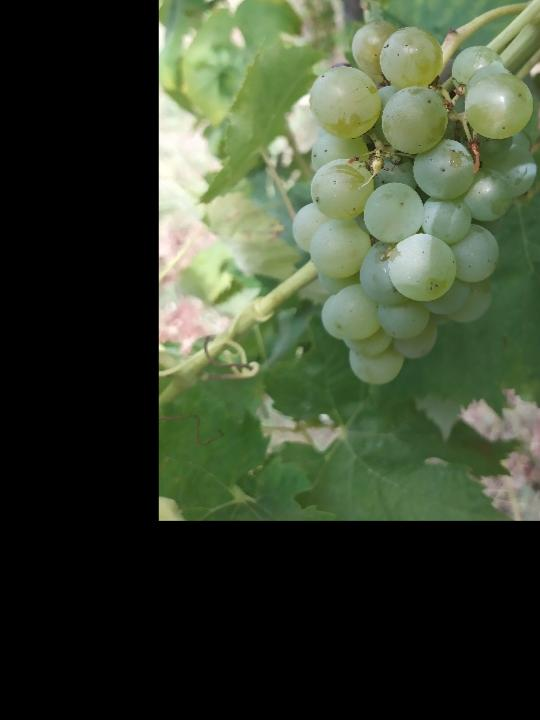grape: (289, 18, 540, 389)
